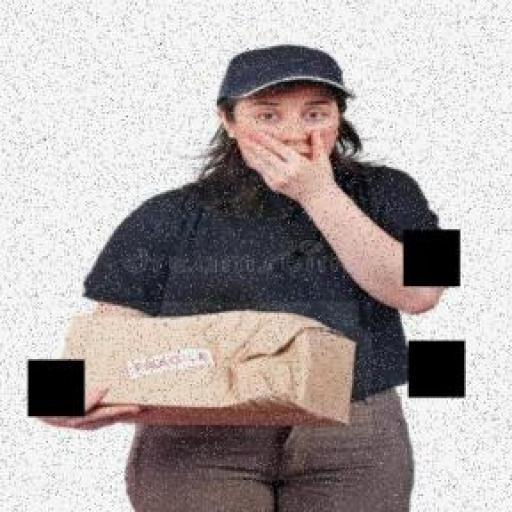box: (23, 302, 372, 436)
